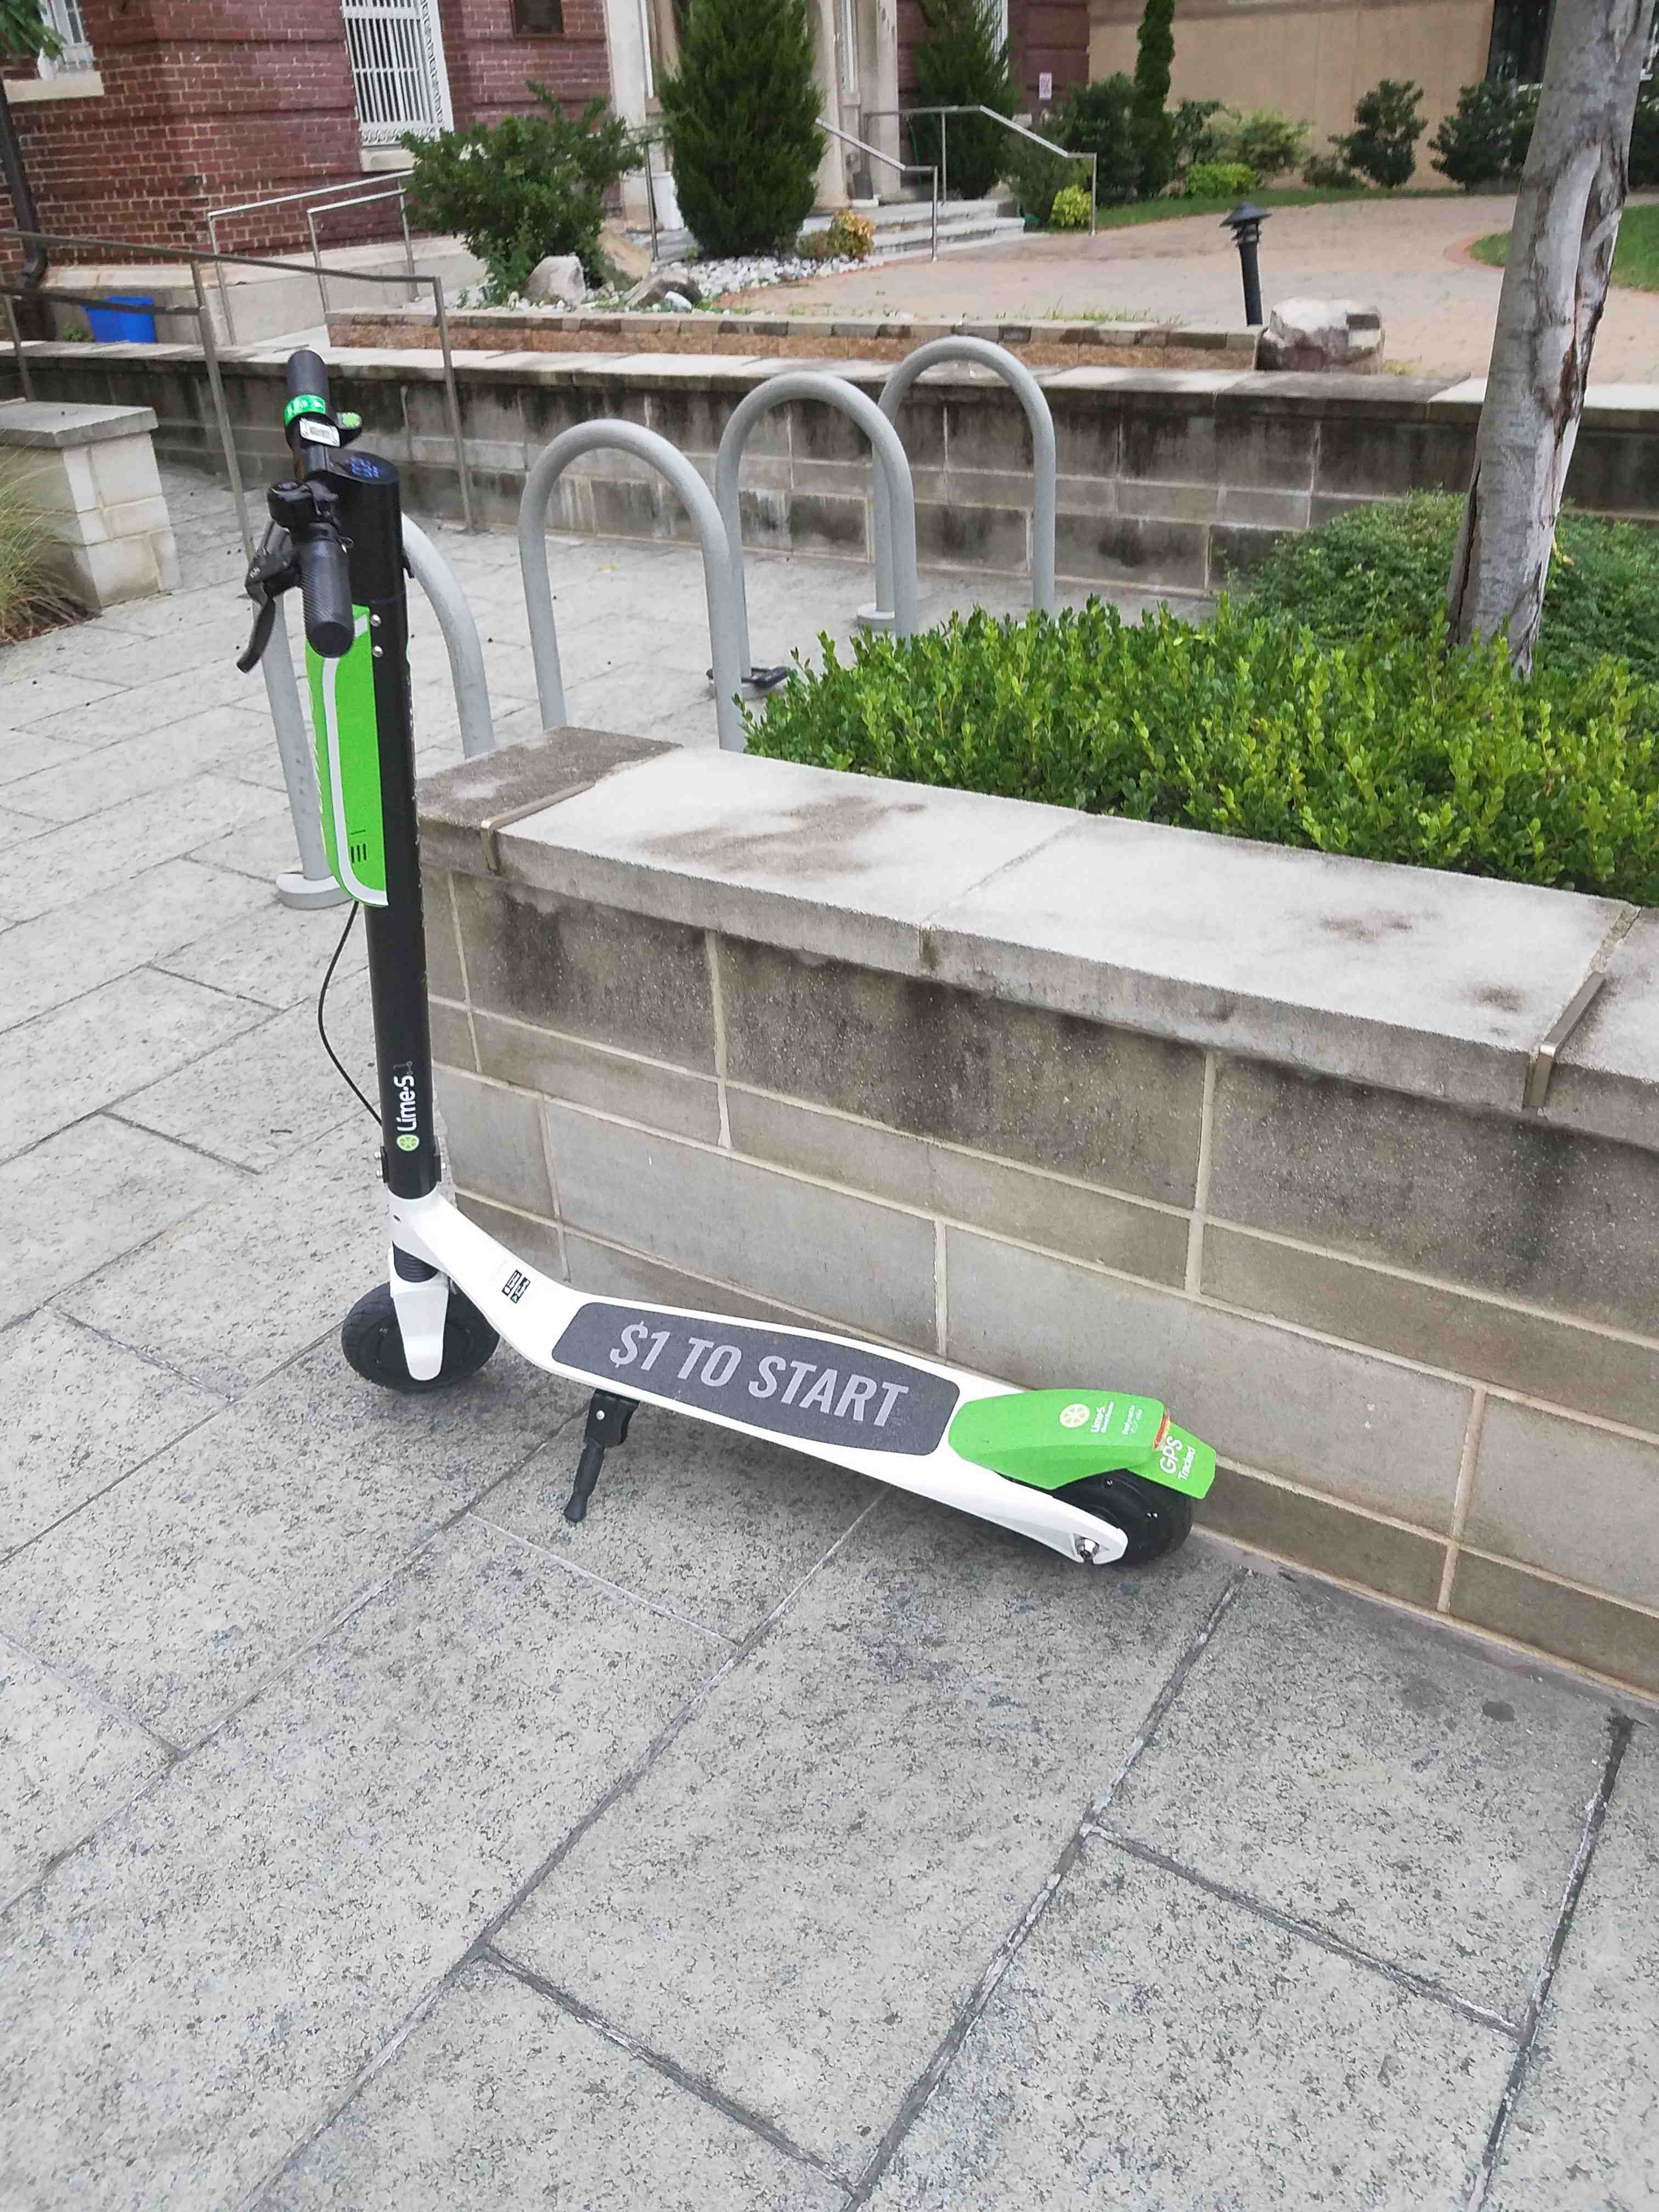scooter: (195, 314, 1269, 1630)
